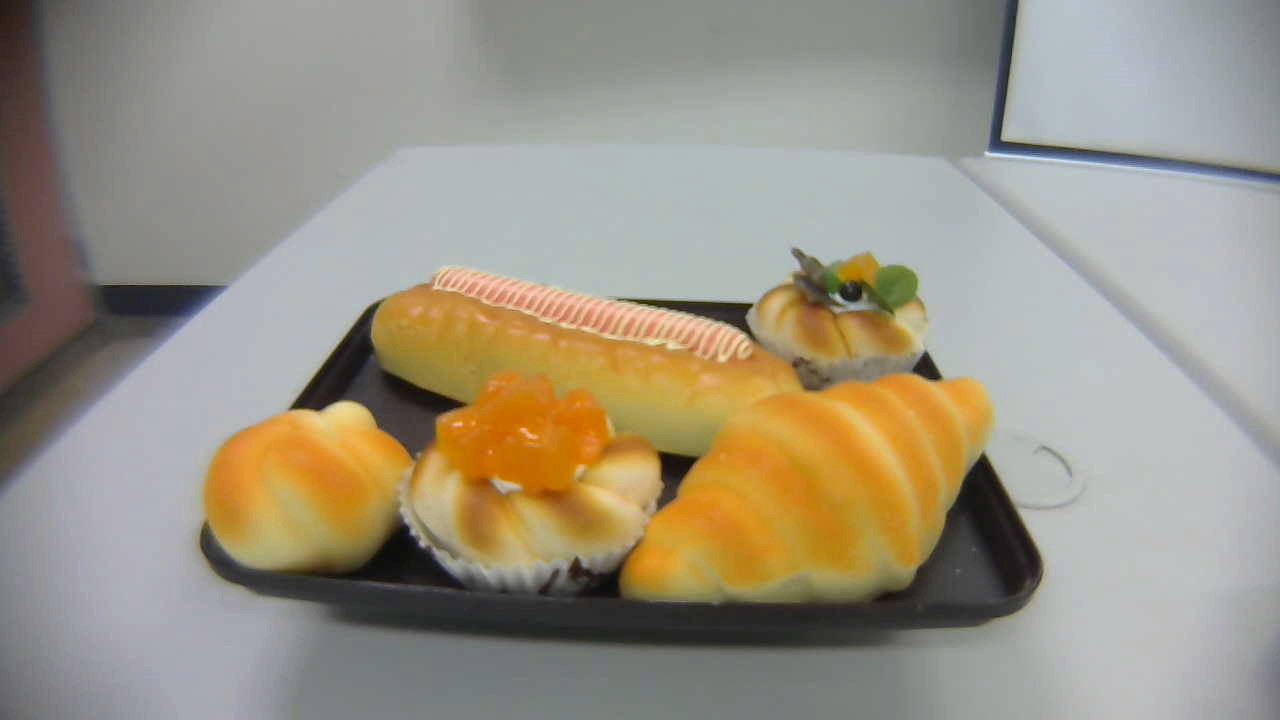croissant: (618, 371, 996, 603)
fruit tart: (745, 247, 929, 392)
hot dog: (372, 266, 807, 458)
mango tart: (400, 372, 665, 597)
twist bread: (204, 397, 415, 576)
